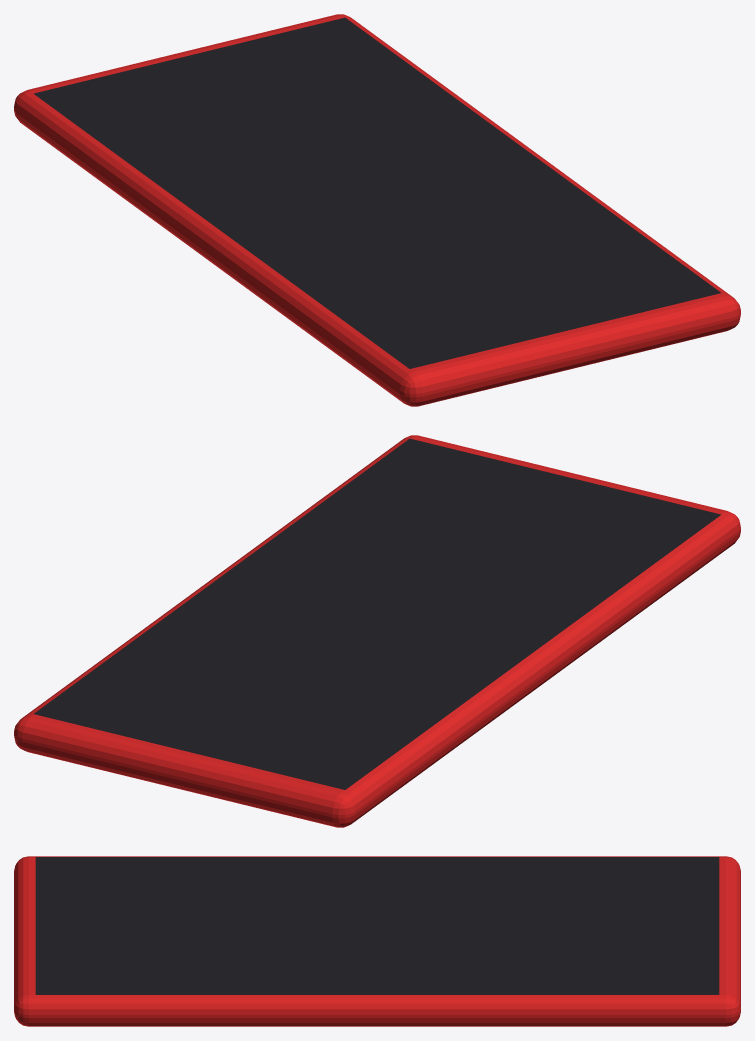
The model's file is Phone_513.glb.
3 renders of one model, top to bottom at view 1: azimuth 30°, elevation 25°; view 2: azimuth 150°, elevation 25°; view 3: azimuth 270°, elevation 25°, orthographic. The views are drawn at different scales.
Parts seen in each view (by area): view 1: Phone_Screen, Phone_Body; view 2: Phone_Screen, Phone_Body; view 3: Phone_Screen, Phone_Body.
Boxes of the visible parts, bbox=[...] form: Phone_Screen: bbox=[34, 17, 720, 368]; Phone_Body: bbox=[14, 14, 740, 406]; Phone_Screen: bbox=[34, 438, 720, 789]; Phone_Body: bbox=[14, 435, 740, 827]; Phone_Screen: bbox=[35, 857, 719, 994]; Phone_Body: bbox=[14, 856, 740, 1026].
Bounding box in the file's own units: 0.0744 × 0.0071 × 0.1522.
